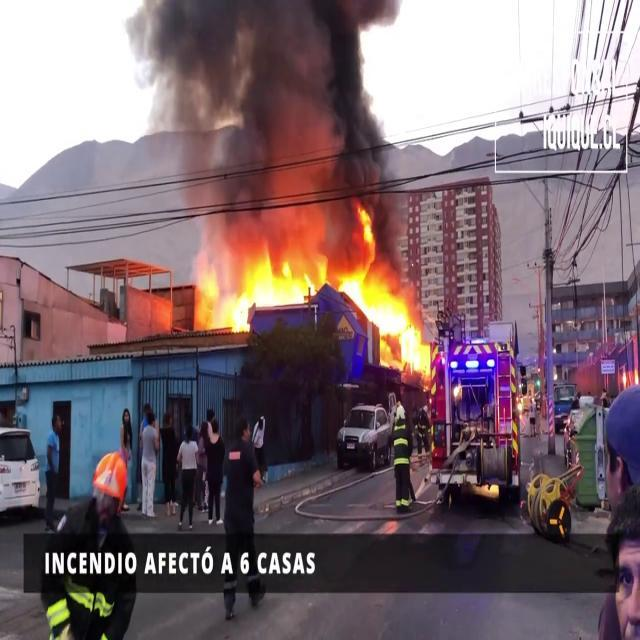Fire: (190, 212, 432, 364)
Smoke: (117, 0, 421, 235)
